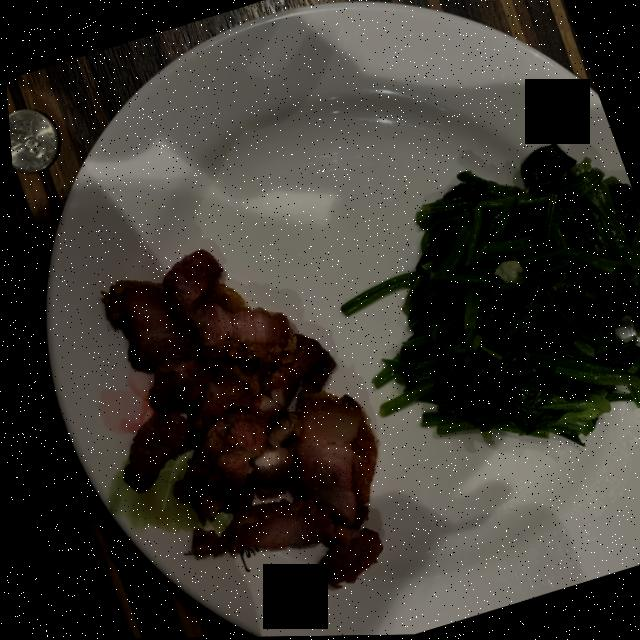coin: (7, 109, 56, 173)
mustard greens: (336, 146, 640, 444)
red grilled pork: (97, 250, 373, 589)
